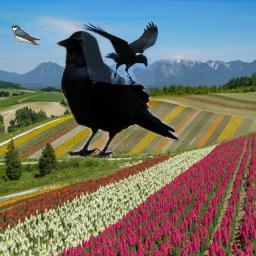Crow: (53, 29, 183, 159), (81, 20, 160, 85)
Swallow: (11, 24, 41, 45)
